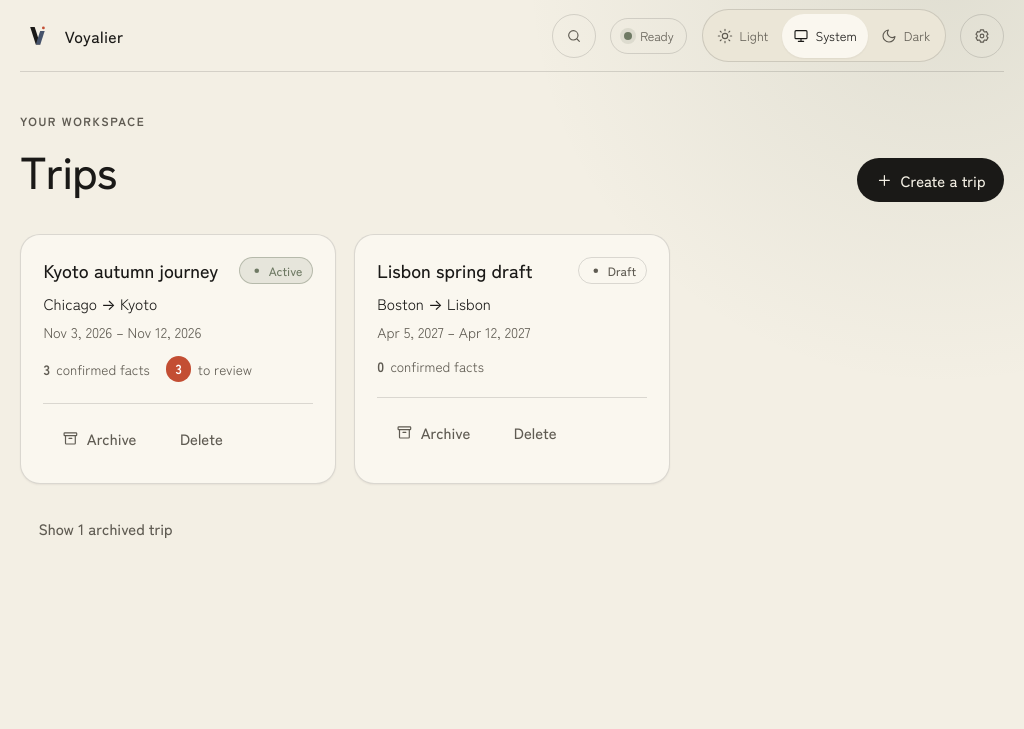
it: Today device calendar date › offers retry for a successful response using a different reference day
Click the button with aria-label "Open Kyoto autumn journey". click: {"x": 131, "y": 270}
box: [43, 257, 218, 283]
(page scrolled)
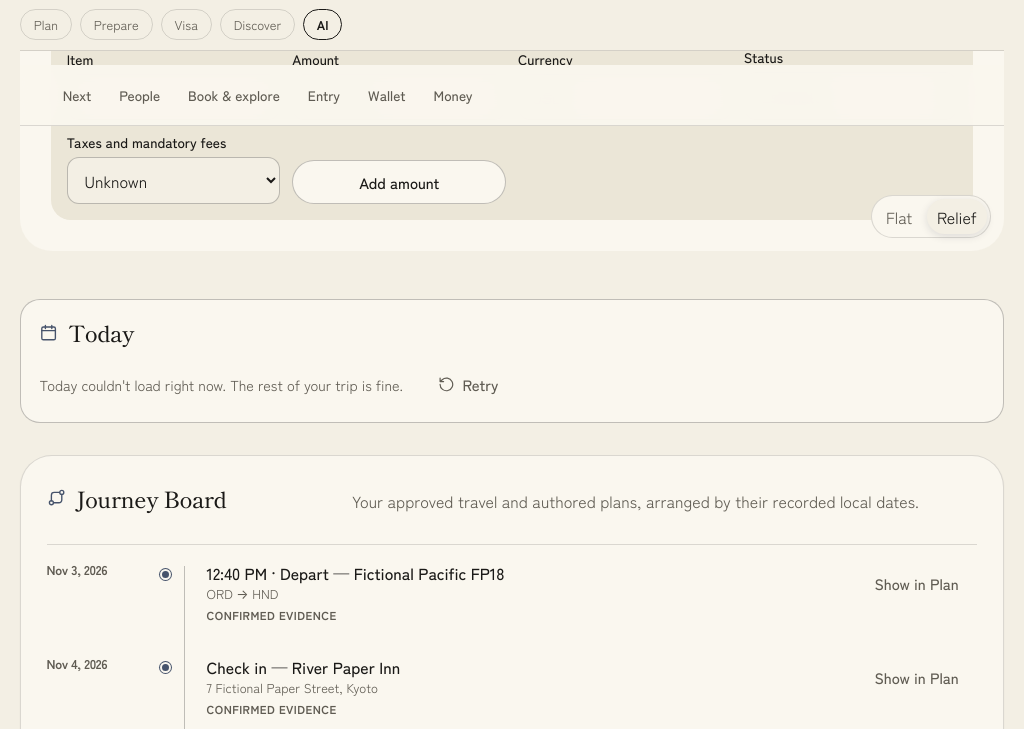
Now the element "Today" is shown, box [20, 299, 1004, 424]
Now the button "Retry" is shown, box [419, 362, 517, 406]
